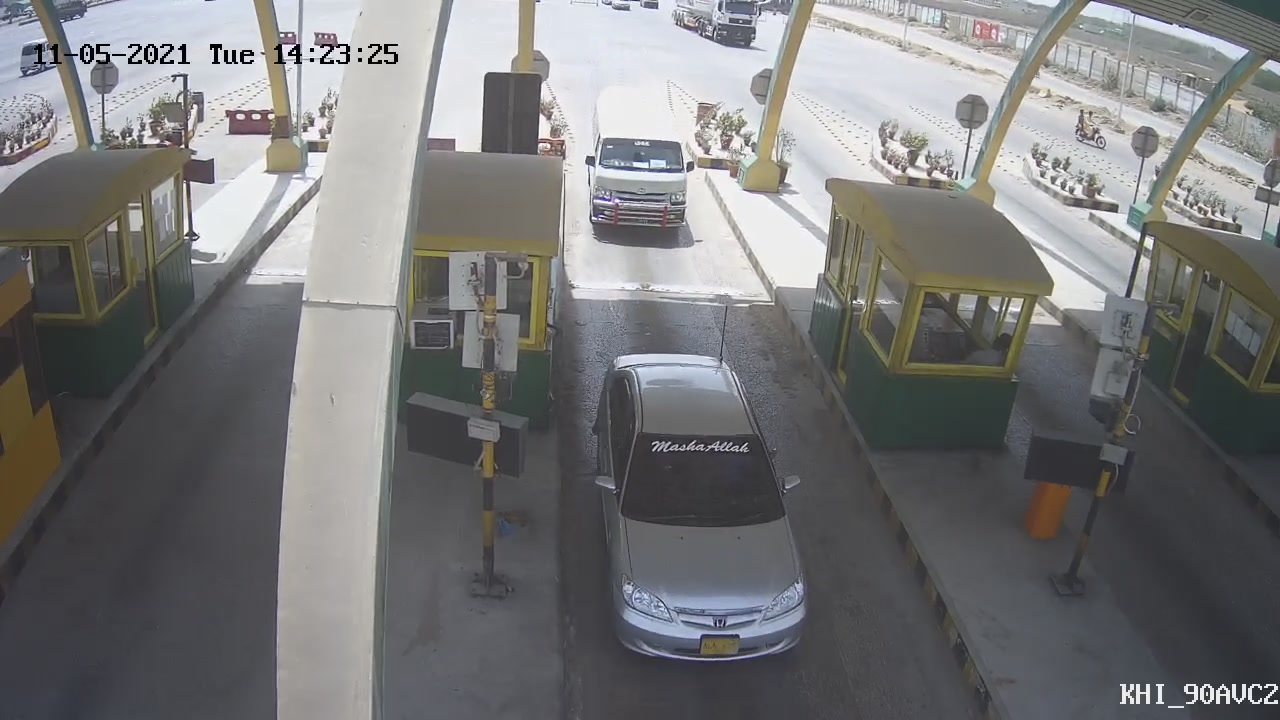F1: (569, 345, 824, 668)
F2: (585, 82, 702, 242)
